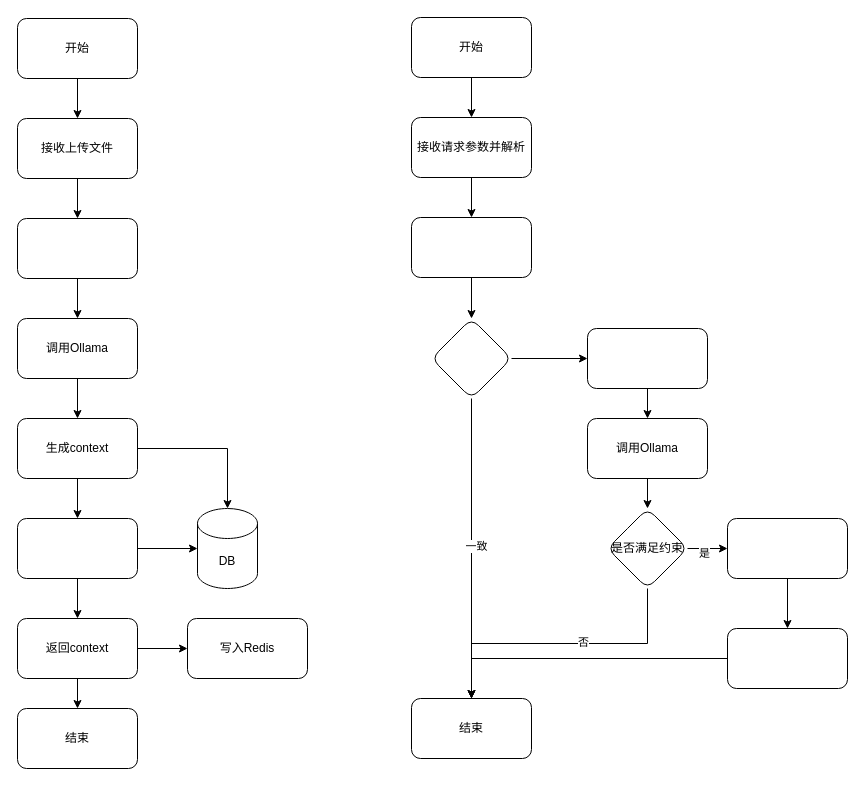
The diagram is 865 pixels wide and 786 high, and some of its shapes have lost their labels. Here are the shapes that lost their labels. From the top down, the centre of each, then its label:
pixel 77 248: 加载统一数据schema
pixel 471 247: 根据label查找Text
pixel 471 358: 判断Text是否一致
pixel 647 358: 根据Lable读取数据schema项
pixel 77 548: 字段来源、Gaps
pixel 787 548: 更新context文件
pixel 787 658: 更新Redis缓存
